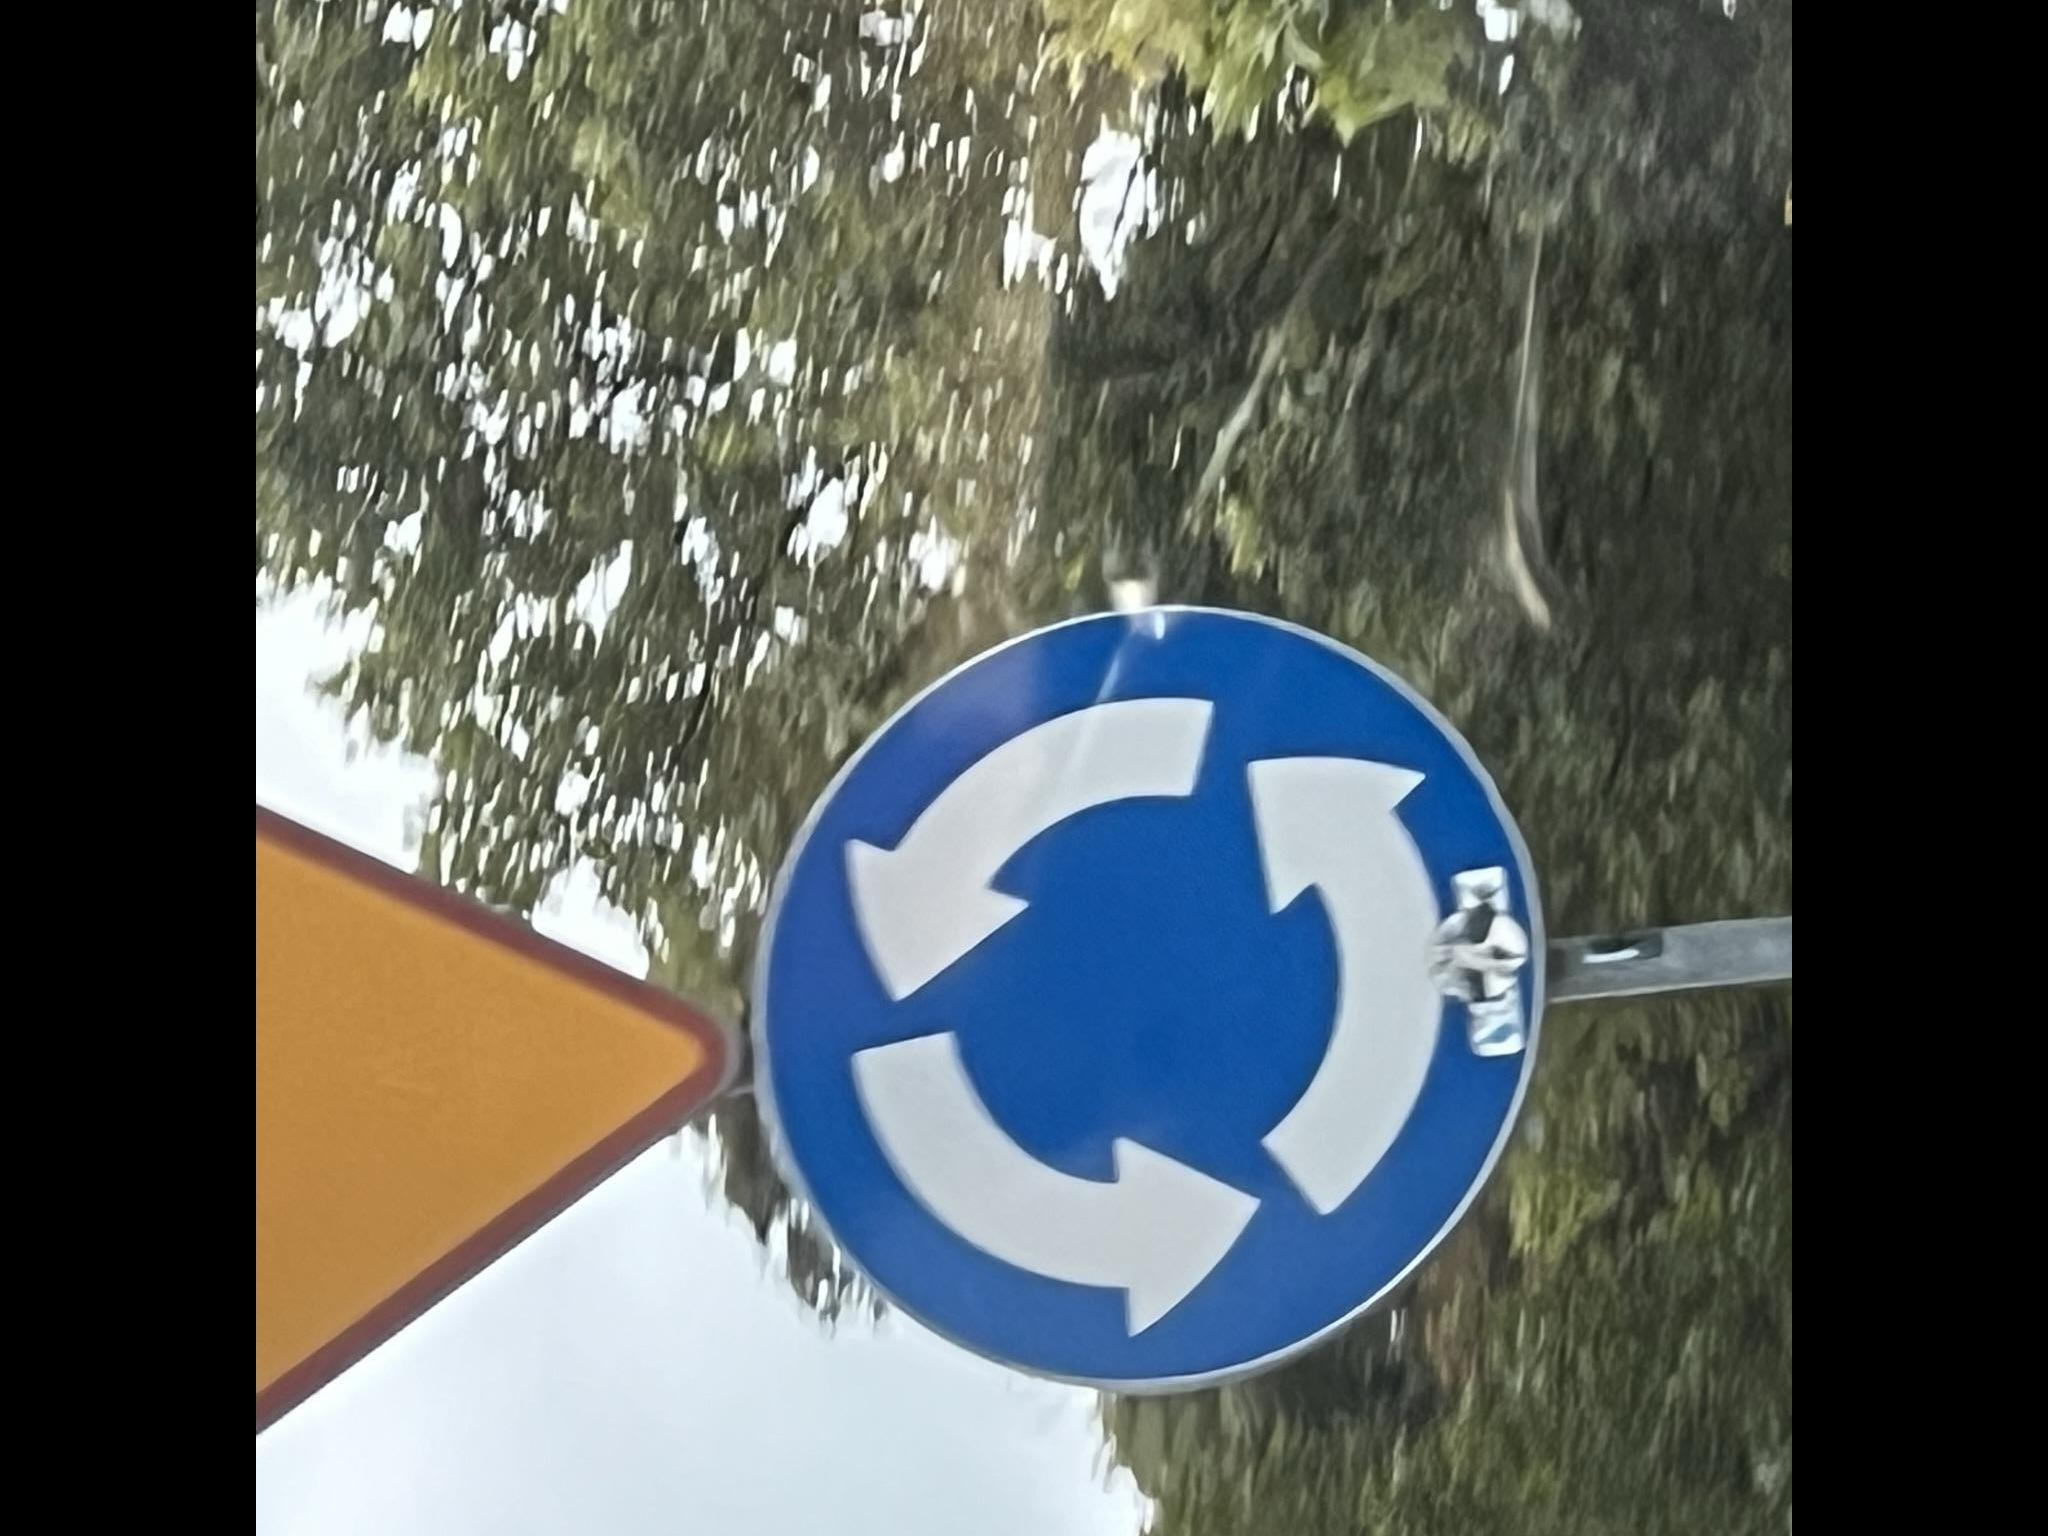mandatory: (743, 599, 1543, 1392)
warning: (256, 795, 734, 1439)
